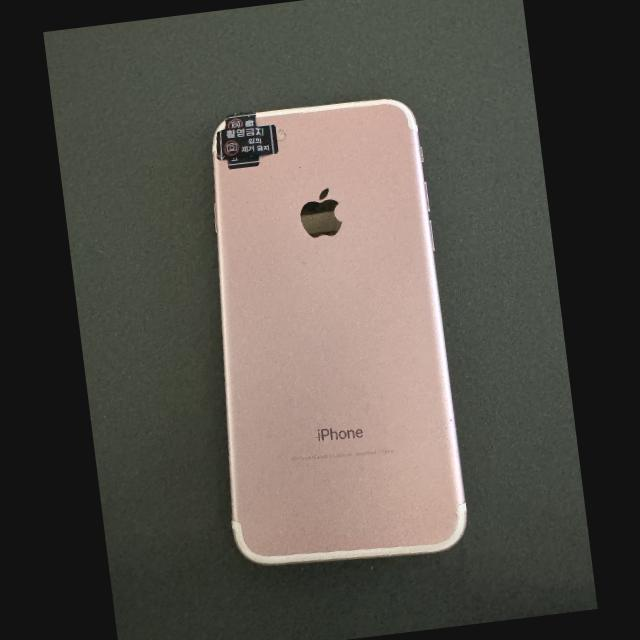phone: (212, 99, 466, 564)
sticker: (215, 124, 278, 160), (224, 112, 256, 128)
